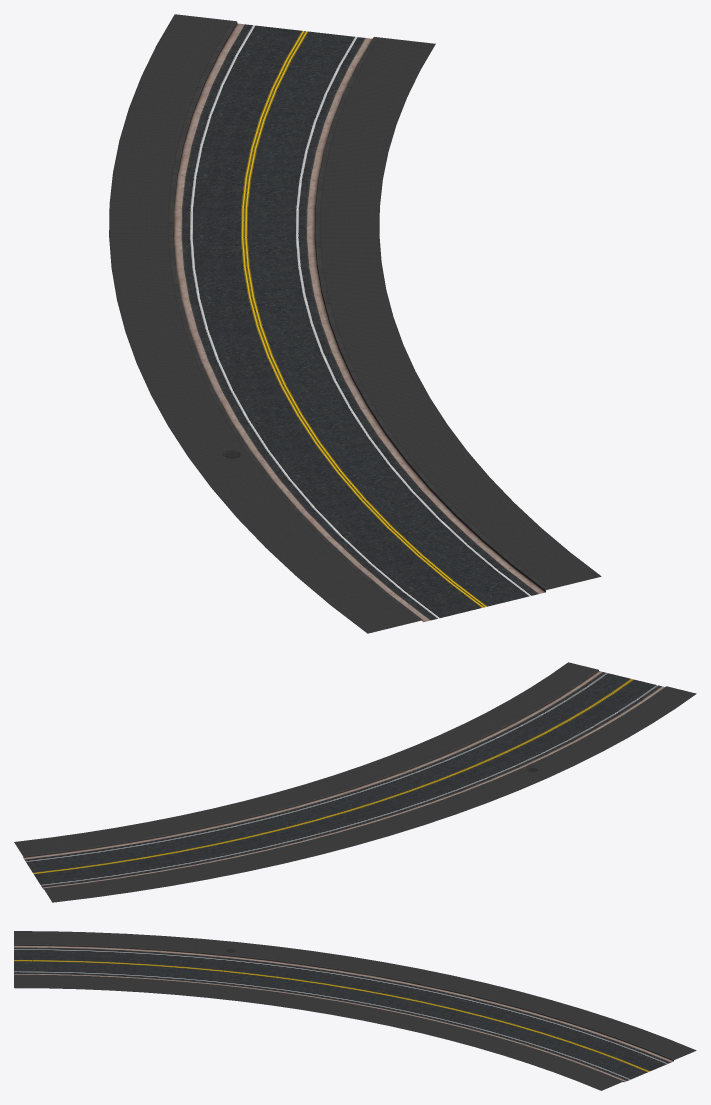
Rendered from or_city_road_US_cont_marking_45right.fbx.
The picture shows the model from 3 angles, top to bottom: view 1: azimuth 30°, elevation 25°; view 2: azimuth 150°, elevation 25°; view 3: azimuth 270°, elevation 25°; orthographic projection. The views are drawn at different scales.
Parts seen in each view (by area): view 1: obj0; view 2: obj0; view 3: obj0.
Part boxes in pixels (bbox=[...]): obj0: bbox=[109, 14, 601, 633]; obj0: bbox=[14, 662, 696, 902]; obj0: bbox=[14, 931, 696, 1090].
Size of the model in its own units: 81.77 by 0.254 by 148.
